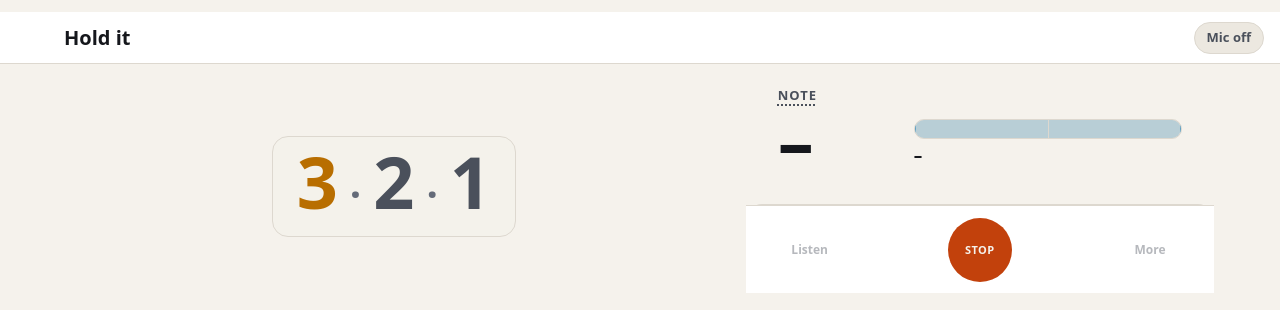
it: Sing: the phases of a take › counts in with a big counter over the canvas, and Sing becomes Stop
Expected: the element with test id "count-in" shows "3", x1=297 y1=132 x2=338 y2=230
Expected: the element with test id "count-in" shows "1", x1=450 y1=132 x2=491 y2=230
Click the button with test id "sing-button".
click(980, 250)  # box x1=948 y1=218 x2=1012 y2=282
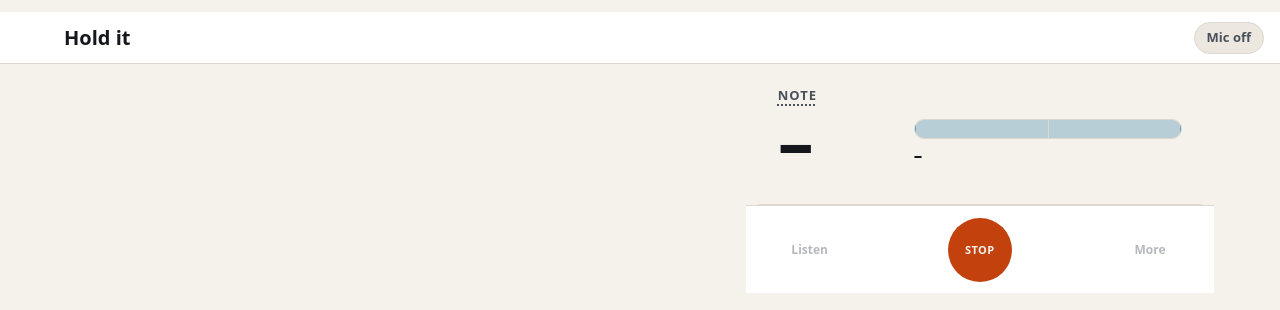
Expected: the element with test id "count-in" is gone
